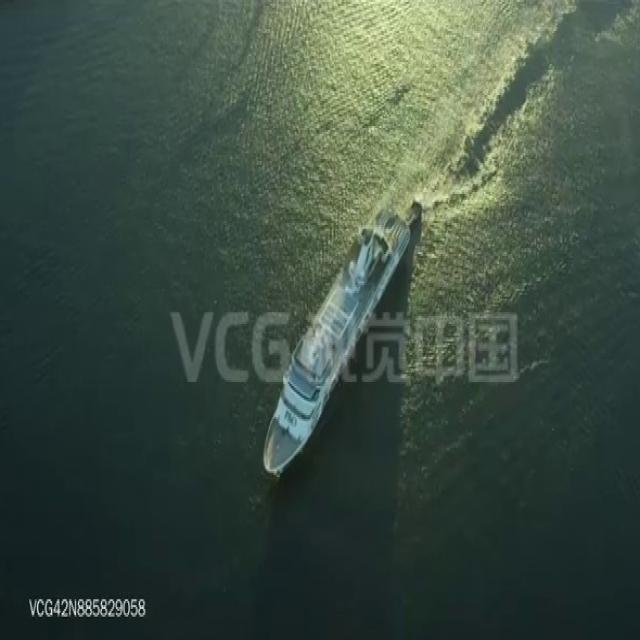passenger ship: (256, 198, 412, 477)
